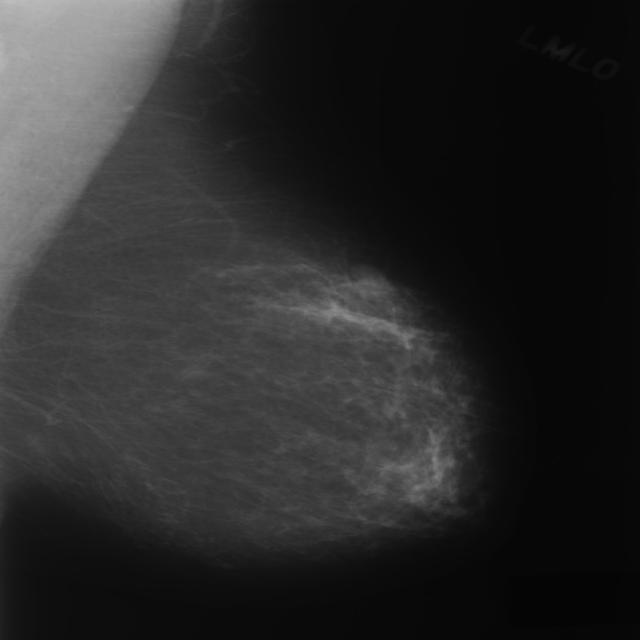tumour: (349, 261, 391, 294)
